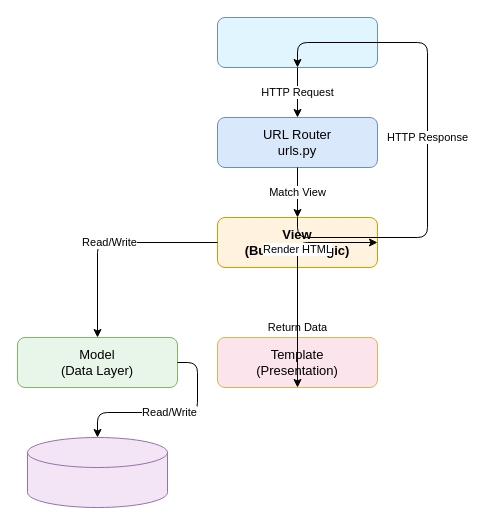
Some shapes in this 485 by 525 pixel diagram are drawn without their labels. The centre of each missing label's shape, as x and y in pixels:
"Browser / Client" belongs at [297,42].
"Database" belongs at [97,472].
